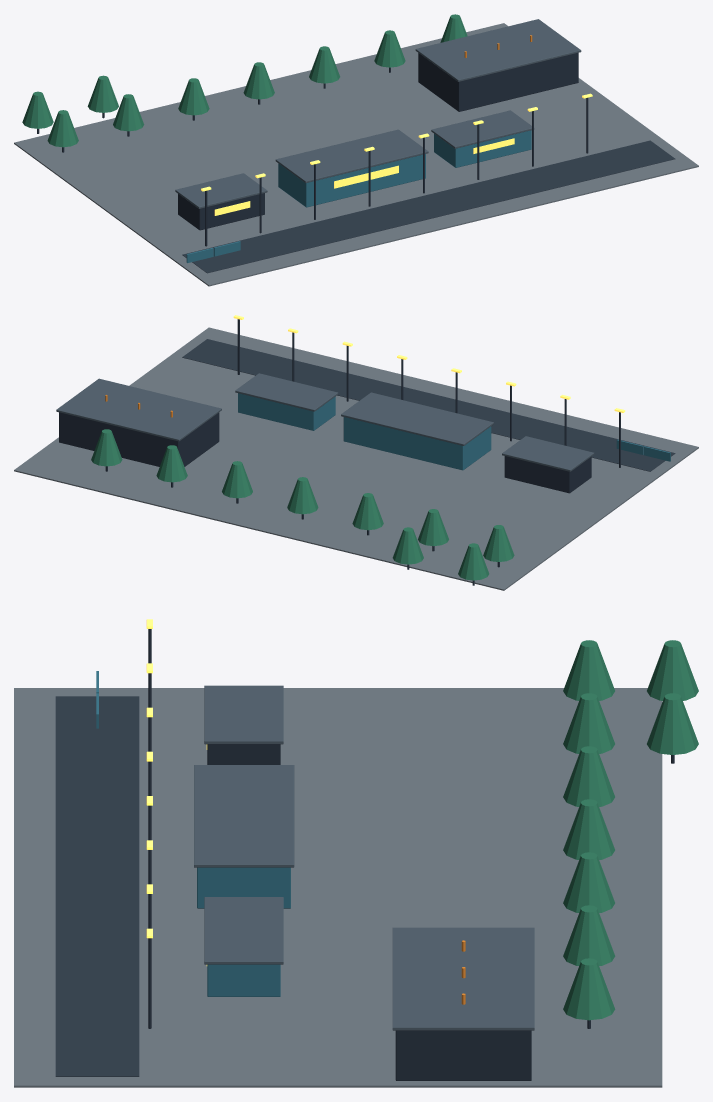
The model's file is support-facilities-medium.glb.
The picture shows the model from 3 angles, top to bottom: view 1: azimuth 30°, elevation 25°; view 2: azimuth 150°, elevation 25°; view 3: azimuth 270°, elevation 25°; orthographic projection. The views are drawn at different scales.
Visible parts, largest first — view 1: support_ground, access_road, substation_roof, substation_body, rest_room_roof, rest_room_body, public_toilet_roof, guardhouse_roof, public_toilet_body, guardhouse_body, tree_canopy.005, tree_canopy.003 (+8 smaller); view 2: support_ground, access_road, substation_roof, substation_body, rest_room_roof, rest_room_body, public_toilet_roof, guardhouse_body, public_toilet_body, guardhouse_roof, tree_canopy.005, tree_canopy.008 (+7 smaller); view 3: support_ground, access_road, substation_roof, rest_room_roof, substation_body, public_toilet_roof, guardhouse_roof, rest_room_body, public_toilet_body, tree_canopy.008, tree_canopy.006, tree_canopy.002 (+7 smaller).
Part boxes in pixels (x1,y1,x2,y2): support_ground: [14, 23, 698, 286]; access_road: [182, 140, 675, 273]; substation_roof: [415, 19, 581, 81]; substation_body: [418, 52, 578, 111]; rest_room_roof: [275, 129, 428, 182]; rest_room_body: [278, 154, 425, 207]; public_toilet_roof: [431, 110, 534, 148]; guardhouse_roof: [175, 173, 267, 208]; public_toilet_body: [434, 130, 531, 167]; guardhouse_body: [178, 193, 264, 230]; tree_canopy.005: [374, 30, 405, 67]; tree_canopy.003: [243, 62, 274, 99]; support_ground: [14, 327, 698, 590]; access_road: [182, 339, 675, 471]; substation_roof: [56, 378, 221, 441]; substation_body: [59, 412, 219, 466]; rest_room_roof: [341, 392, 493, 445]; rest_room_body: [343, 417, 491, 470]; public_toilet_roof: [235, 373, 338, 411]; guardhouse_body: [504, 456, 591, 493]; public_toilet_body: [238, 393, 335, 430]; guardhouse_roof: [502, 436, 594, 471]; tree_canopy.005: [156, 445, 187, 482]; tree_canopy.008: [392, 527, 423, 564]; support_ground: [14, 688, 662, 1087]; access_road: [55, 696, 139, 1076]; substation_roof: [392, 927, 534, 1030]; rest_room_roof: [194, 765, 294, 867]; substation_body: [395, 1030, 531, 1080]; public_toilet_roof: [204, 897, 283, 964]; guardhouse_roof: [204, 685, 283, 744]; rest_room_body: [197, 867, 290, 908]; public_toilet_body: [207, 964, 280, 996]; tree_canopy.008: [647, 693, 698, 754]; tree_canopy.006: [563, 958, 615, 1020]; tree_canopy.002: [563, 746, 614, 806].
Bounding box in the file's own units: 90 × 10.38 × 65.5.
